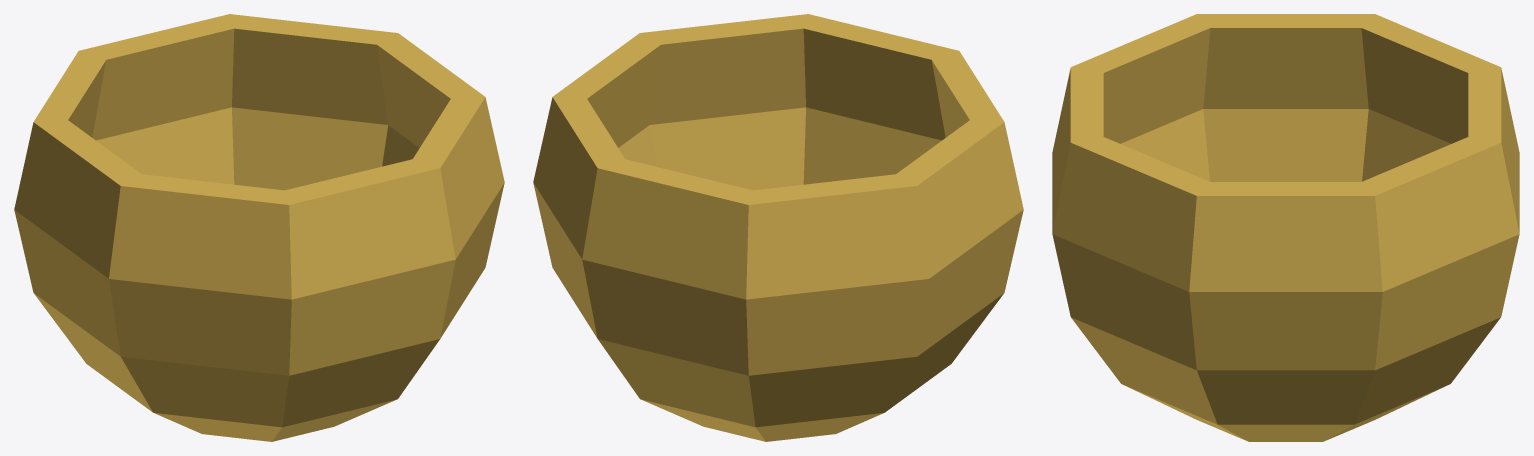
The picture shows the model from 3 angles, left to right: view 1: azimuth 30°, elevation 25°; view 2: azimuth 150°, elevation 25°; view 3: azimuth 270°, elevation 25°; orthographic projection. The views are drawn at different scales.
Parts seen in each view (by area): view 1: base; view 2: base; view 3: base.
Part boxes in pixels (box(x1,y1,x2,y2)): base: box(14, 14, 504, 441); base: box(533, 14, 1023, 441); base: box(1052, 14, 1519, 441).
Size of the model in its own units: 0.2409 by 0.1703 by 0.2409.
